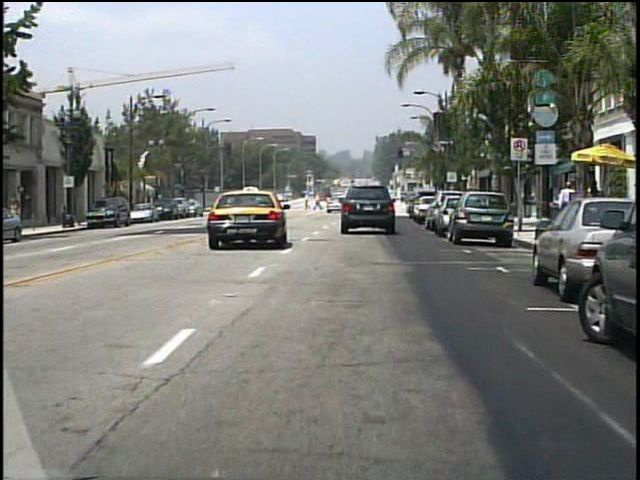person: (555, 179, 575, 219), (302, 191, 312, 212), (311, 193, 322, 212)
